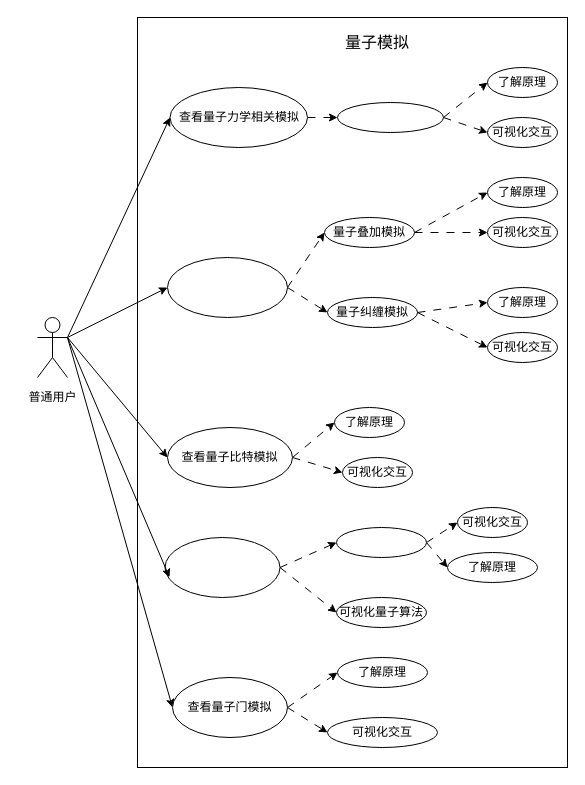
Image size: 585x785. Some labels were removed from this diagram. The centre of each missing label's shape, as x and y in pixels:
双缝实验模拟: point 390,117
查看量子测量模拟: point 222,567
查看量子相关的模拟: point 227,287
量子测量模拟: point 381,542
